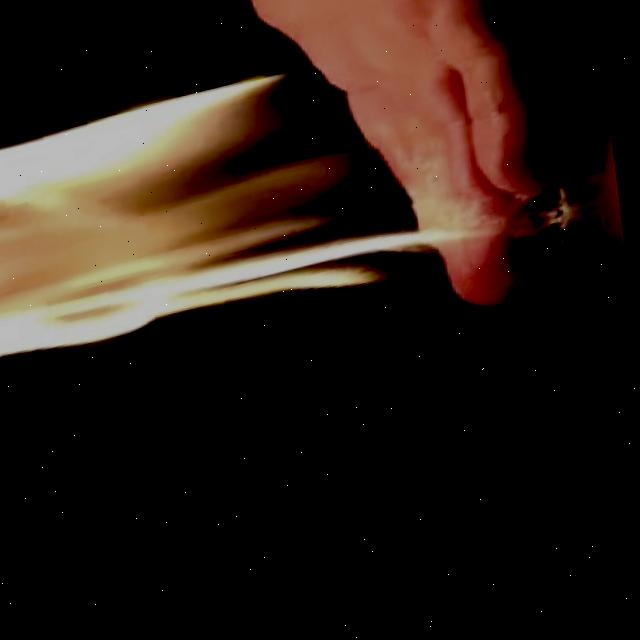Fire: (0, 3, 482, 396)
